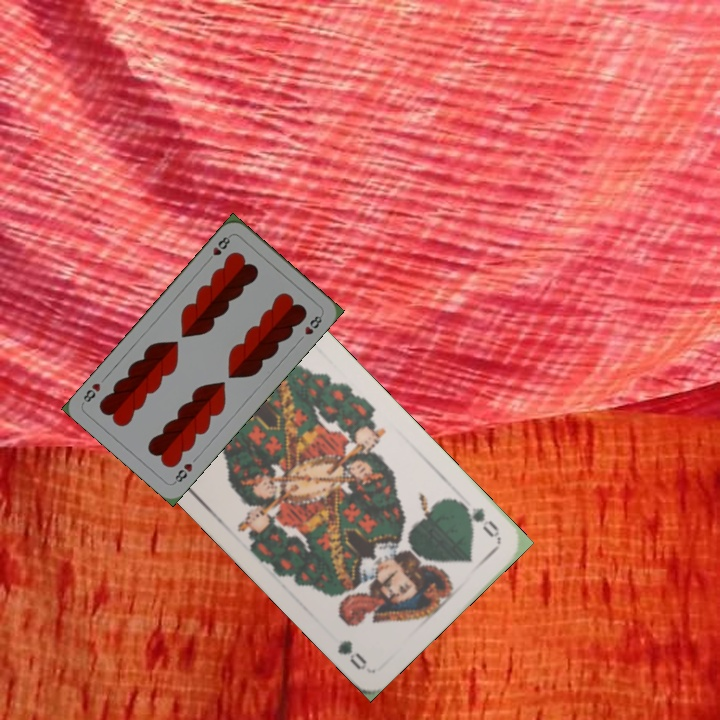GO: (454, 497, 502, 542)
H8: (203, 231, 234, 265), (170, 459, 195, 486)
